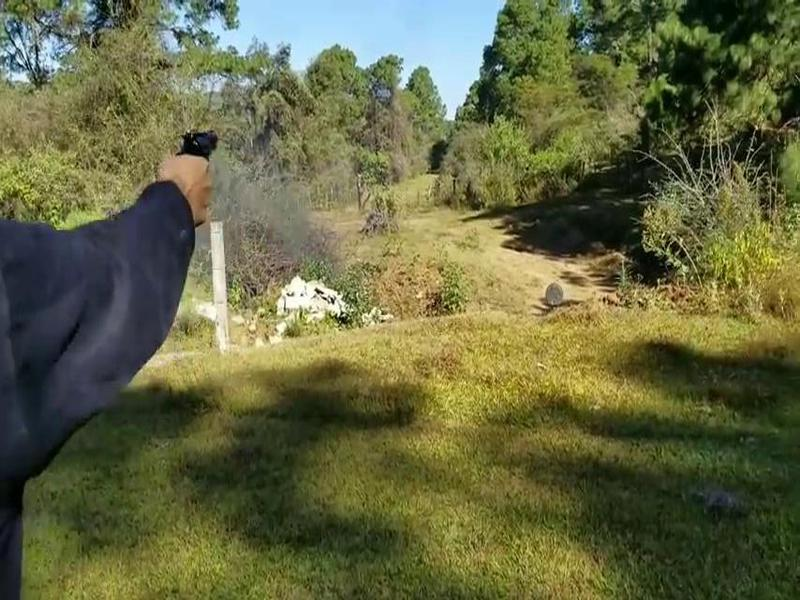Revolver: (154, 114, 242, 178)
